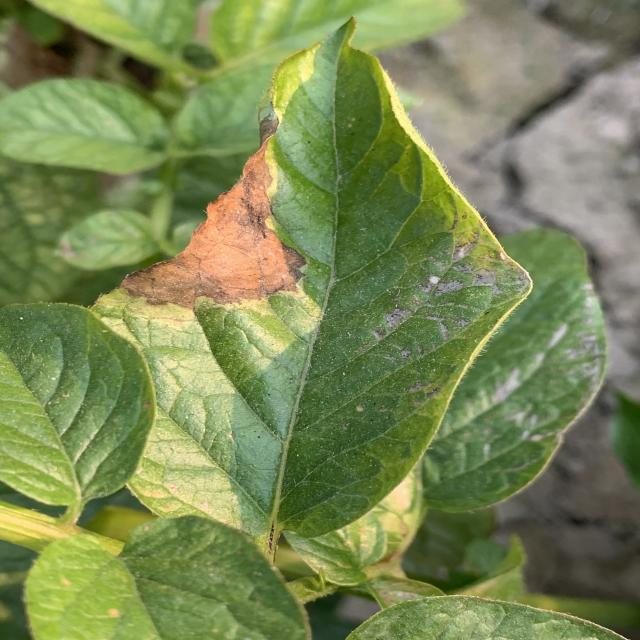lateblight: (120, 140, 305, 309)
